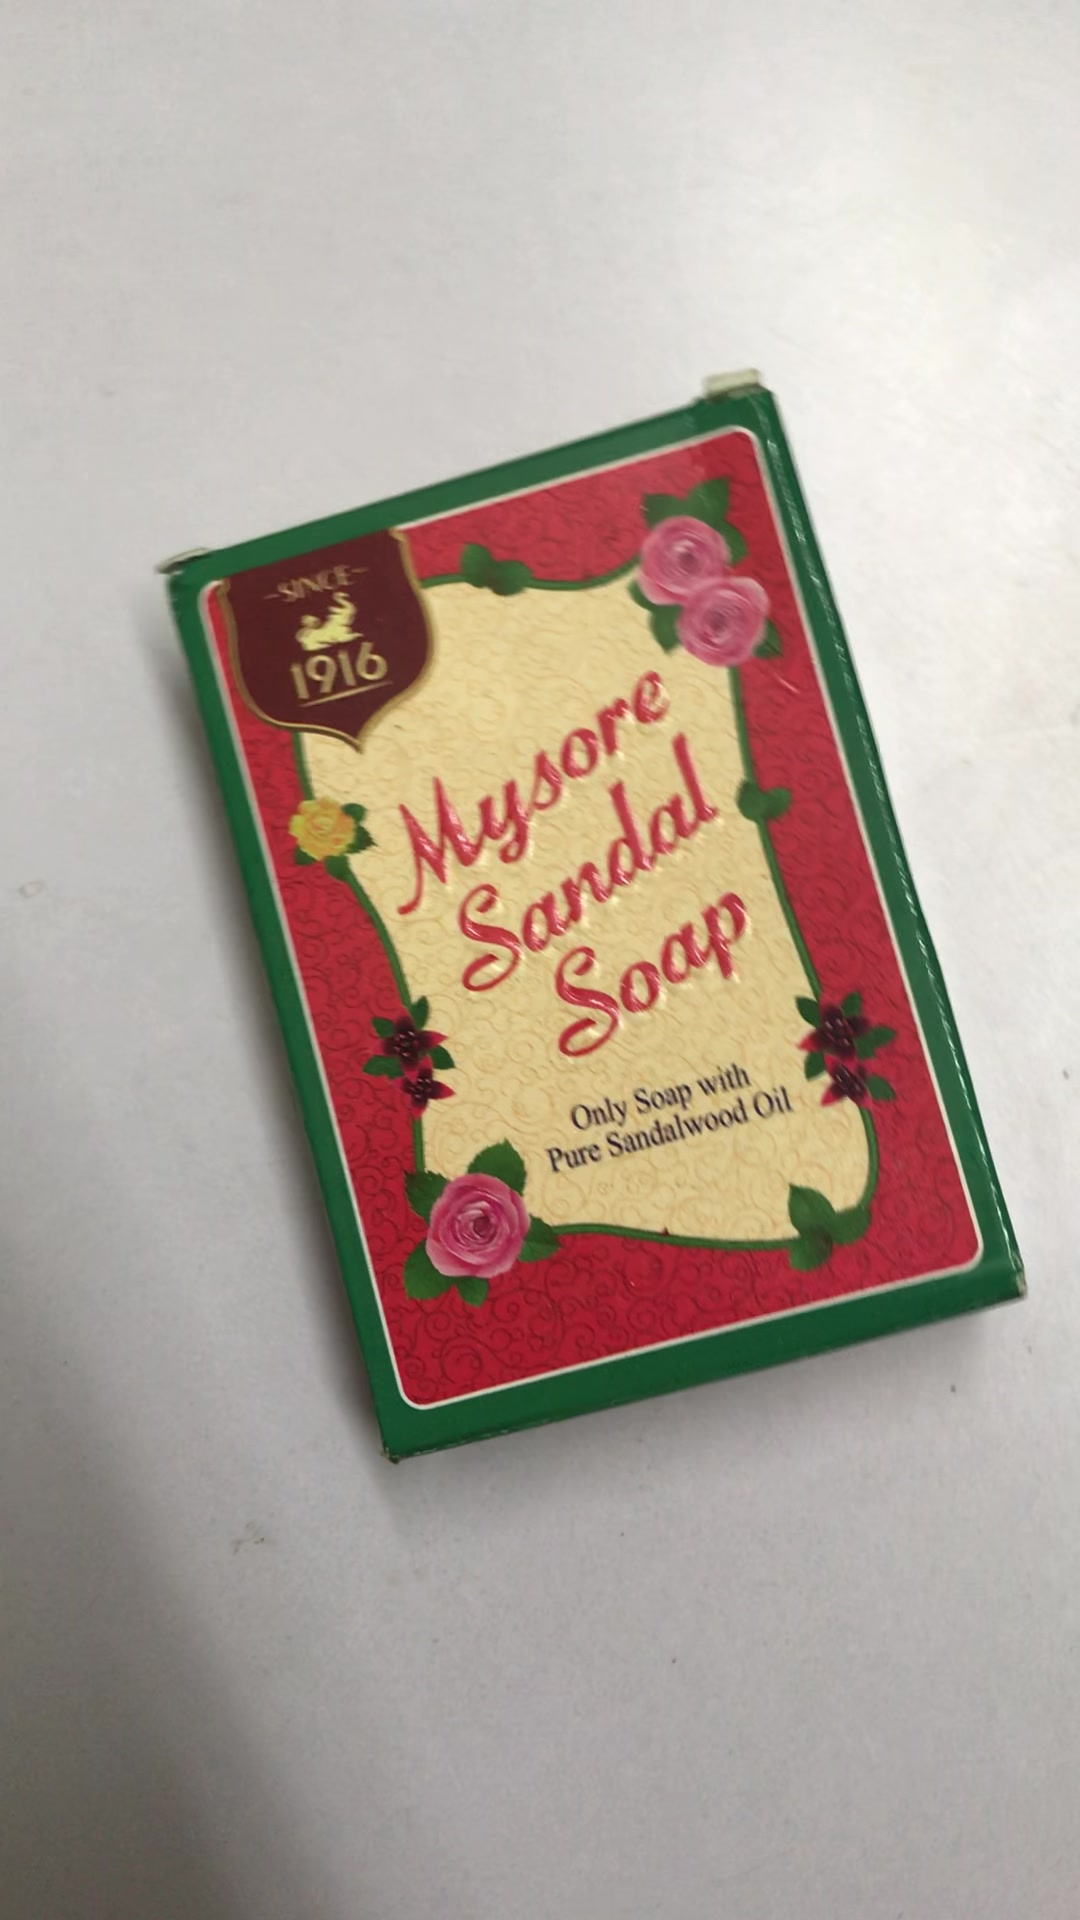mysore sandal soap: (152, 390, 1029, 1462)
